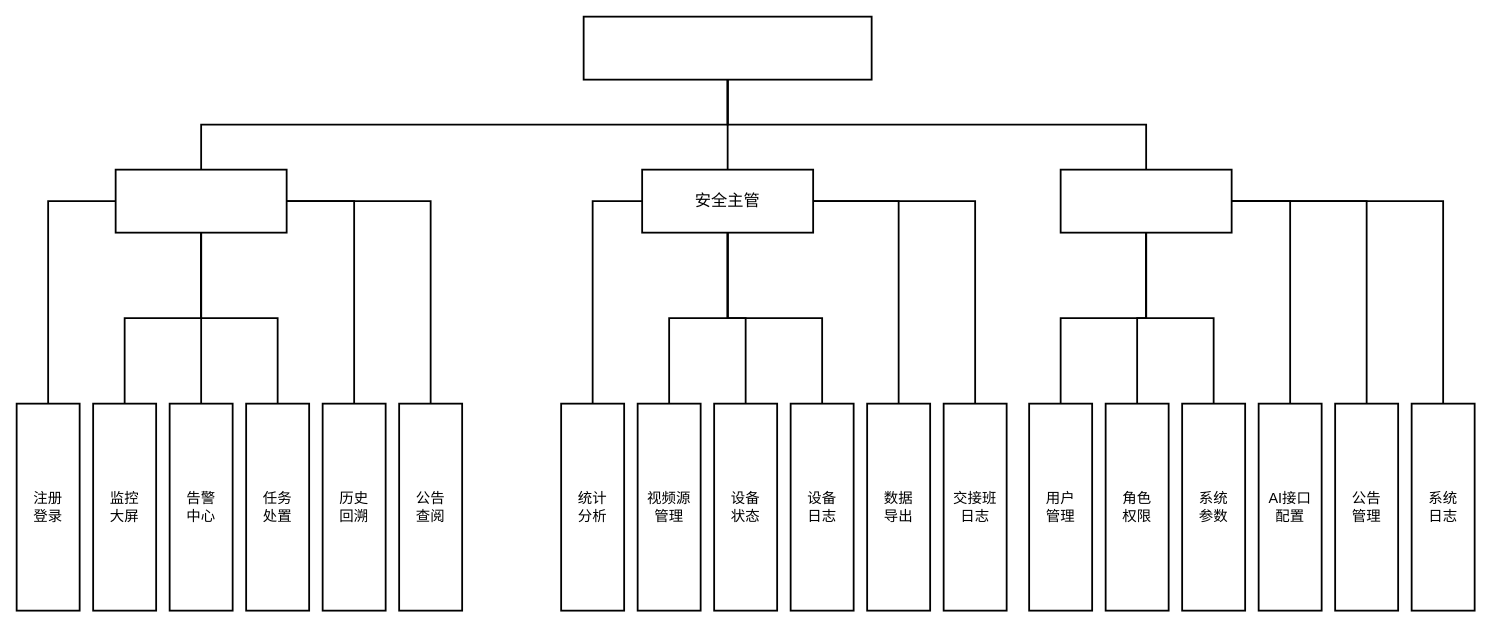
Image size: 1490x626. Some labels were removed from this diagram. Each missing label, with the centre of its shape:
"安全操作员" goes at pixel 200 200.
"森林火灾预警系统" goes at pixel 727 47.
"系统管理员" goes at pixel 1145 200.
